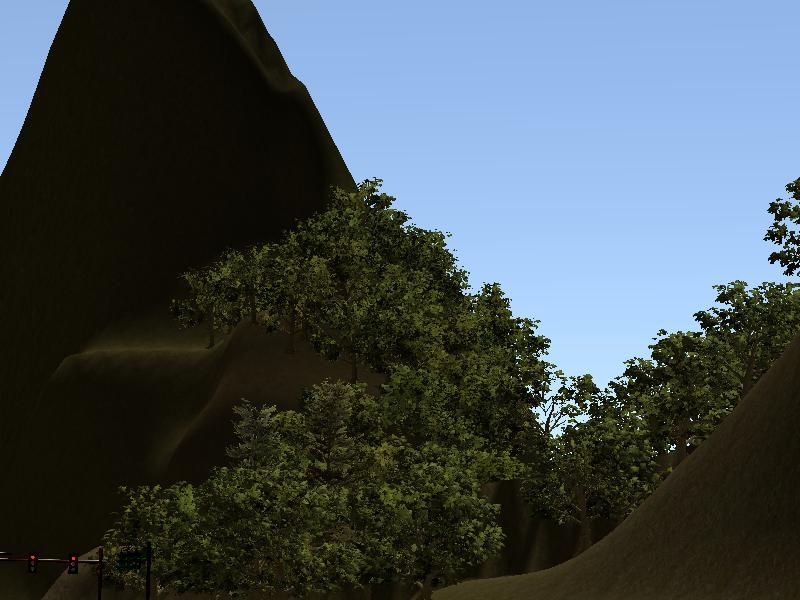Red: (27, 553, 38, 575), (68, 553, 79, 575)
